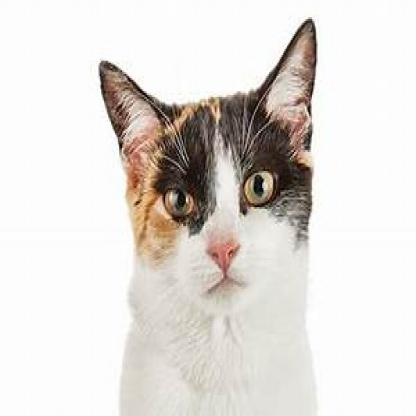cat: (87, 59, 338, 406)
